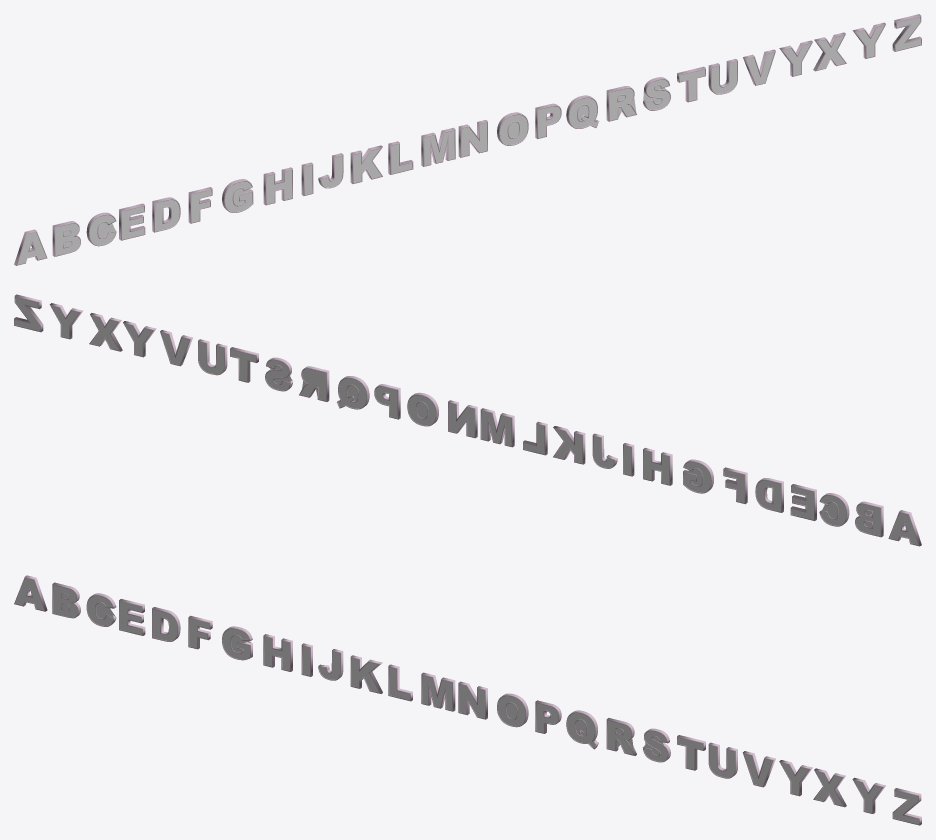
File: final capital only.fbx
3 renders of one model, top to bottom at view 1: azimuth 30°, elevation 25°; view 2: azimuth 150°, elevation 25°; view 3: azimuth 330°, elevation 25°, orthographic.
Parts seen in each view (by area): view 1: Text.038, Text.037, Text.042, Text.053, Text.040, Text.048, Text.026, Text.036, Text.151, Text.015, Text.044, Text.047; view 2: Text.038, Text.042, Text.040, Text.048, Text.037, Text.053, Text.026, Text.036, Text.151, Text.015, Text.044; view 3: Text.038, Text.042, Text.037, Text.040, Text.053, Text.048, Text.026, Text.015, Text.151, Text.036, Text.044, Text.047.
Boxes of the visible parts, x1=… form: Text.038: x1=569, y1=98, x2=597, y2=127; Text.037: x1=609, y1=88, x2=636, y2=120; Text.042: x1=424, y1=130, x2=454, y2=165; Text.053: x1=55, y1=223, x2=80, y2=255; Text.040: x1=500, y1=115, x2=527, y2=144; Text.048: x1=225, y1=181, x2=252, y2=211; Text.026: x1=89, y1=215, x2=115, y2=244; Text.036: x1=643, y1=79, x2=669, y2=109; Text.151: x1=421, y1=127, x2=455, y2=166; Text.015: x1=461, y1=122, x2=486, y2=156; Text.044: x1=353, y1=148, x2=381, y2=182; Text.047: x1=266, y1=170, x2=291, y2=203; Text.038: x1=338, y1=378, x2=366, y2=408; Text.042: x1=481, y1=411, x2=511, y2=445; Text.040: x1=408, y1=395, x2=435, y2=425; Text.048: x1=684, y1=462, x2=710, y2=492; Text.037: x1=300, y1=368, x2=326, y2=400; Text.053: x1=856, y1=504, x2=880, y2=535; Text.026: x1=820, y1=495, x2=847, y2=525; Text.036: x1=266, y1=360, x2=292, y2=390; Text.151: x1=480, y1=408, x2=514, y2=447; Text.015: x1=449, y1=403, x2=474, y2=436; Text.044: x1=554, y1=429, x2=582, y2=463; Text.038: x1=567, y1=713, x2=595, y2=747; Text.042: x1=422, y1=675, x2=452, y2=710; Text.037: x1=607, y1=720, x2=634, y2=754; Text.040: x1=498, y1=696, x2=525, y2=726; Text.053: x1=53, y1=585, x2=77, y2=617; Text.048: x1=223, y1=629, x2=251, y2=659; Text.026: x1=87, y1=596, x2=115, y2=625; Text.015: x1=459, y1=684, x2=484, y2=718; Text.151: x1=421, y1=672, x2=455, y2=711; Text.036: x1=643, y1=731, x2=667, y2=761; Text.044: x1=351, y1=658, x2=378, y2=692; Text.047: x1=264, y1=637, x2=289, y2=670.
Bounding box in the file's own units: 1686 × 62.76 × 8.68.
